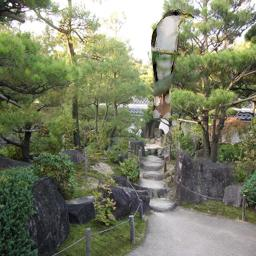Cuckoo: (150, 8, 194, 118)
